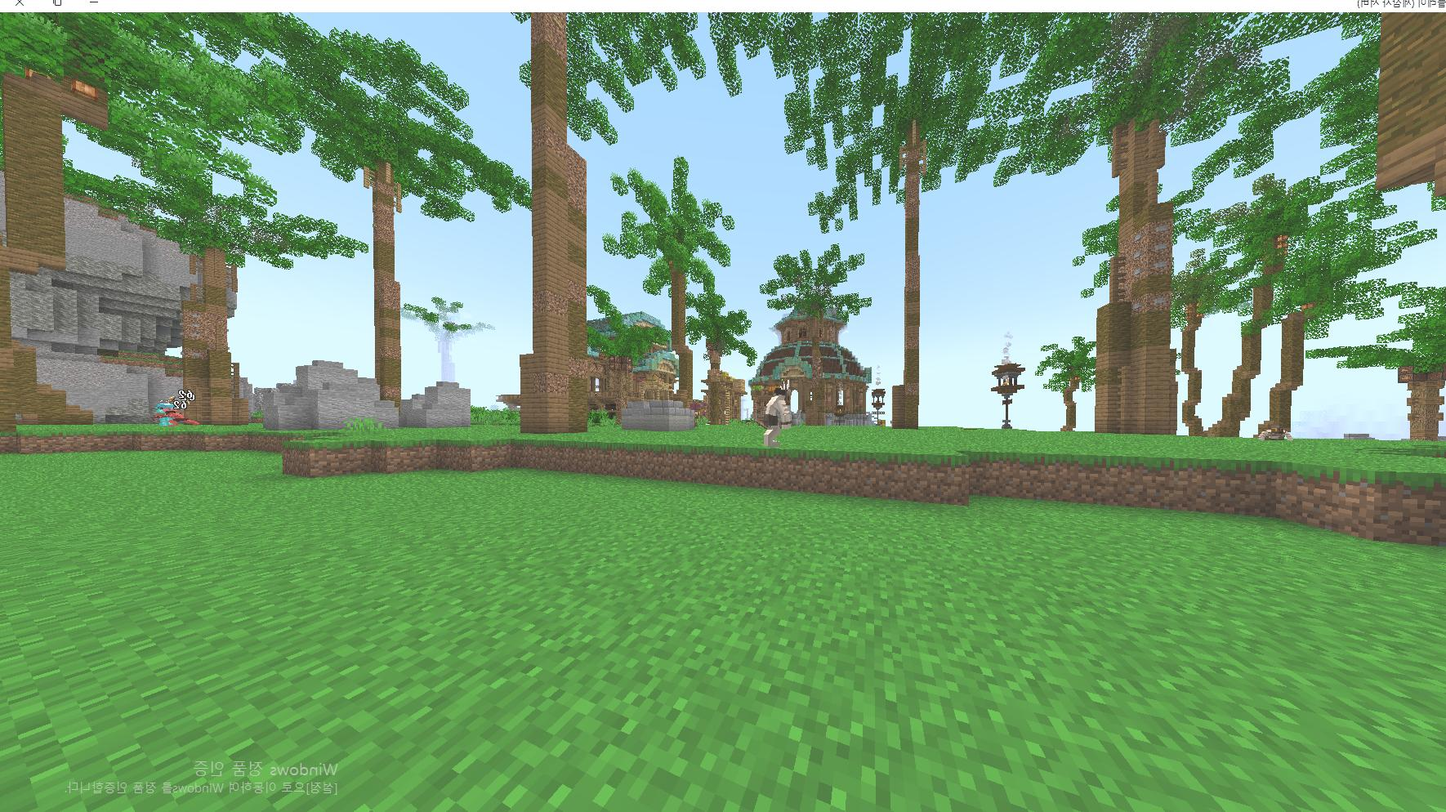bow_indian: (748, 376, 800, 454)
